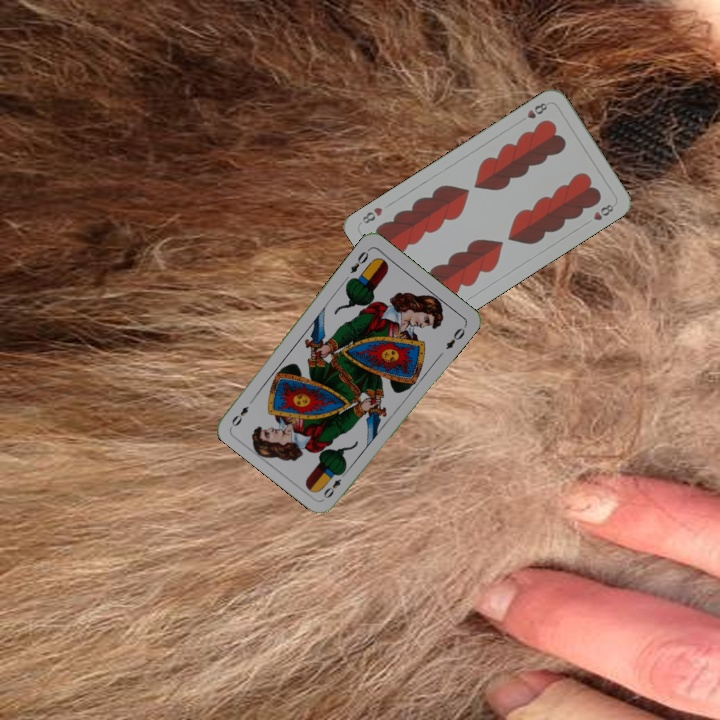EO: (319, 467, 350, 501), (346, 247, 371, 276)
H8: (523, 99, 551, 121)
